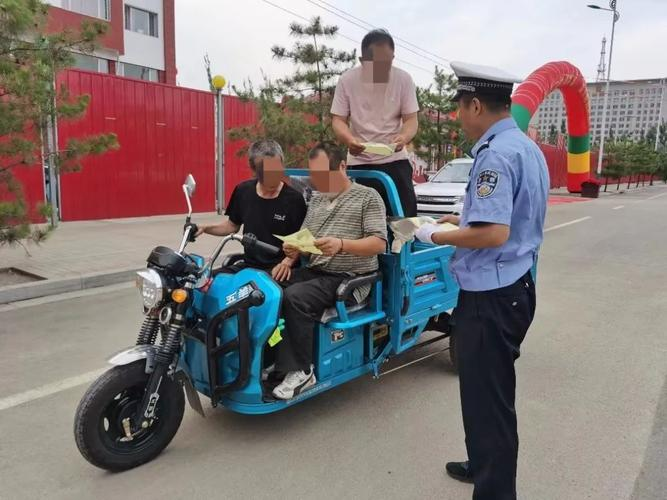driver: (225, 144, 297, 286)
overloading: (55, 37, 542, 461)
passenger: (281, 149, 395, 414), (338, 35, 423, 221)
